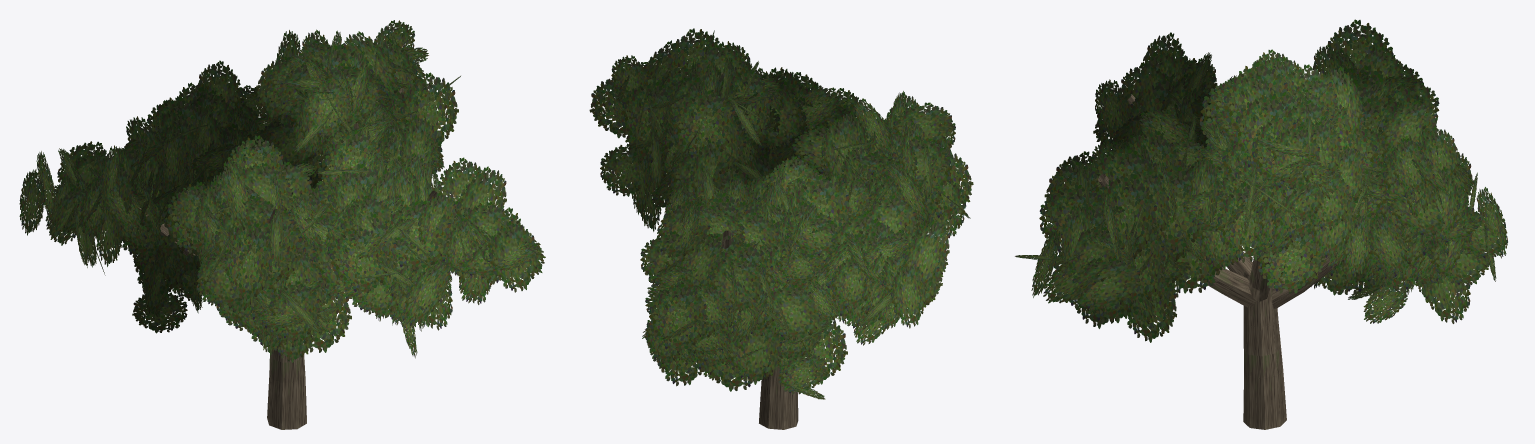
The model's file is Tree_Oak_Lone_2.gltf.
3 views of the same model, side by side, from view 1: azimuth 30°, elevation 25°; view 2: azimuth 150°, elevation 25°; view 3: azimuth 270°, elevation 25° (orthographic). The views are drawn at different scales.
Parts seen in each view (by area): view 1: Tree_Oak_Lone_2; view 2: Tree_Oak_Lone_2; view 3: Tree_Oak_Lone_2.
Boxes of the visible parts, x1,y1,x2,y2 form: Tree_Oak_Lone_2: (19,20,545,429); Tree_Oak_Lone_2: (589,28,973,429); Tree_Oak_Lone_2: (1015,19,1507,429).
Bounding box in the file's own units: 16 × 14.58 × 16.96.
Materials: 2 (2 with a texture image).
